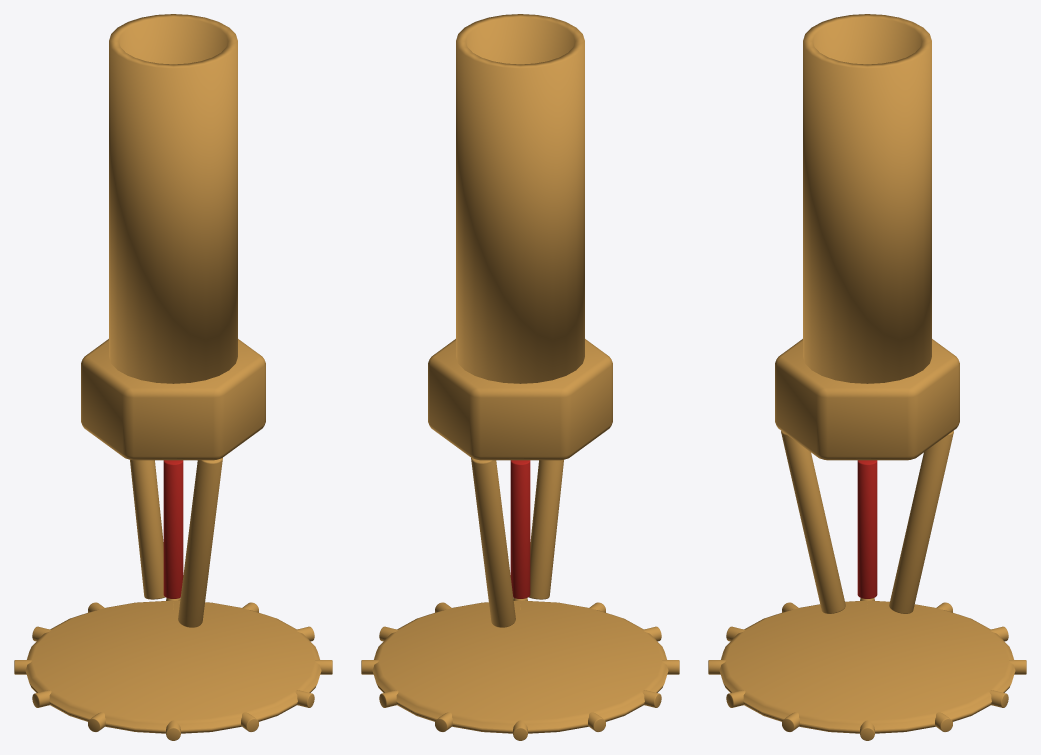
Rendered from SM_WS_SprinklerHead.fbx.
3 views of the same model, side by side, from view 1: azimuth 30°, elevation 25°; view 2: azimuth 150°, elevation 25°; view 3: azimuth 270°, elevation 25° (orthographic).
Visible parts, largest first — view 1: SM_WS_SprinklerHead; view 2: SM_WS_SprinklerHead; view 3: SM_WS_SprinklerHead.
Boxes of the visible parts, x1,y1,x2,y2 form: SM_WS_SprinklerHead: (14, 14, 332, 740); SM_WS_SprinklerHead: (361, 14, 679, 740); SM_WS_SprinklerHead: (708, 14, 1026, 740).
Size of the model in its own units: 0.064 by 0.064 by 0.1405.
